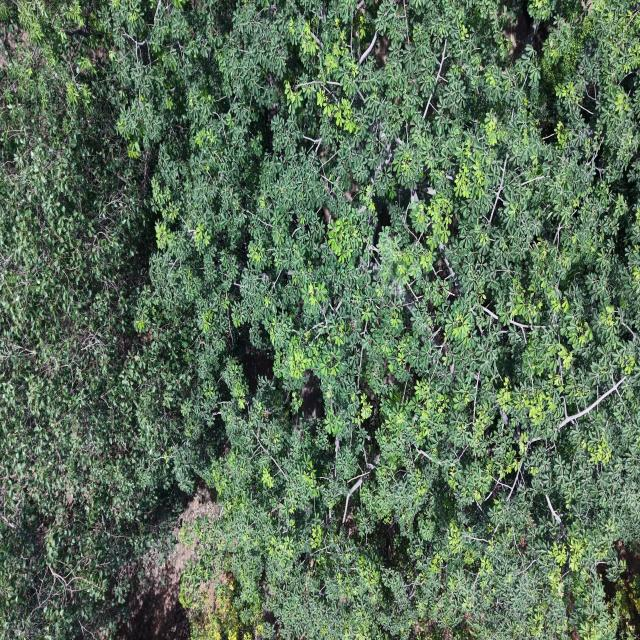VEGETATION_TREE: (0, 0, 639, 639), (0, 3, 200, 638)
